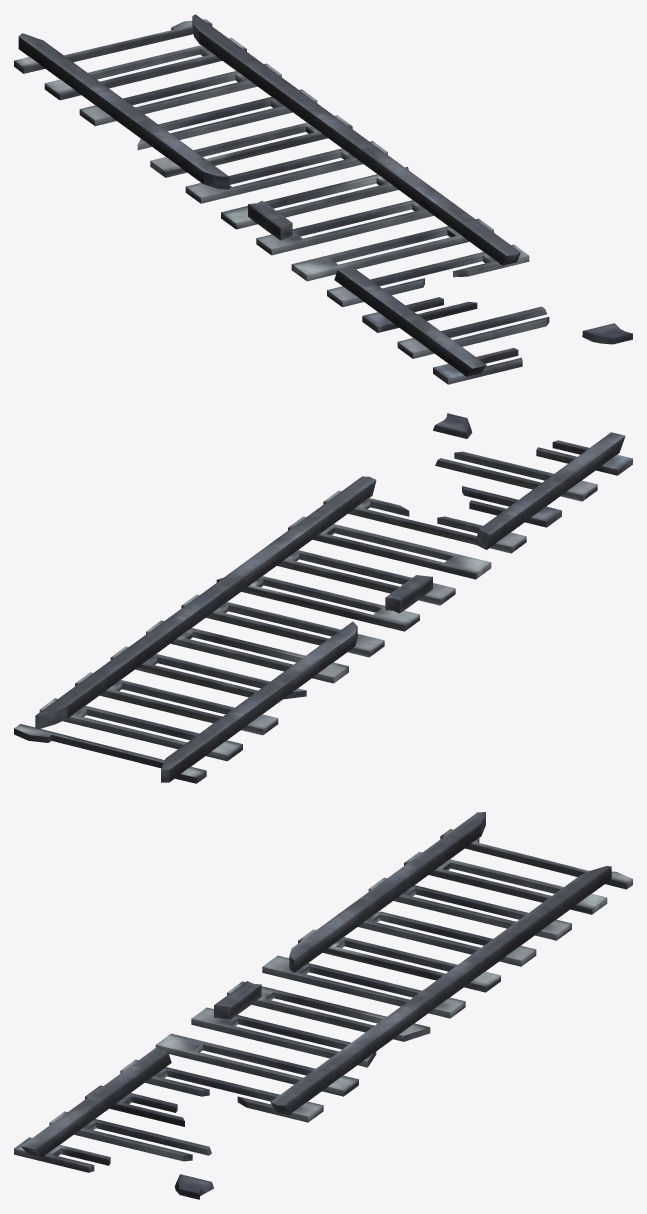
Rendered from yw_wanglingzhita_tiedao02.FBX.
3 views of the same model, one above another, from view 1: azimuth 30°, elevation 25°; view 2: azimuth 150°, elevation 25°; view 3: azimuth 330°, elevation 25° (orthographic).
Visible parts, largest first — view 1: yw_wanglingzhita_tiedao02; view 2: yw_wanglingzhita_tiedao02; view 3: yw_wanglingzhita_tiedao02.
Boxes of the visible parts, x1,y1,x2,y2 form: yw_wanglingzhita_tiedao02: [14, 14, 632, 384]; yw_wanglingzhita_tiedao02: [14, 413, 632, 783]; yw_wanglingzhita_tiedao02: [14, 812, 632, 1199].
Bounding box in the file's own units: 190 × 18.05 × 801.
